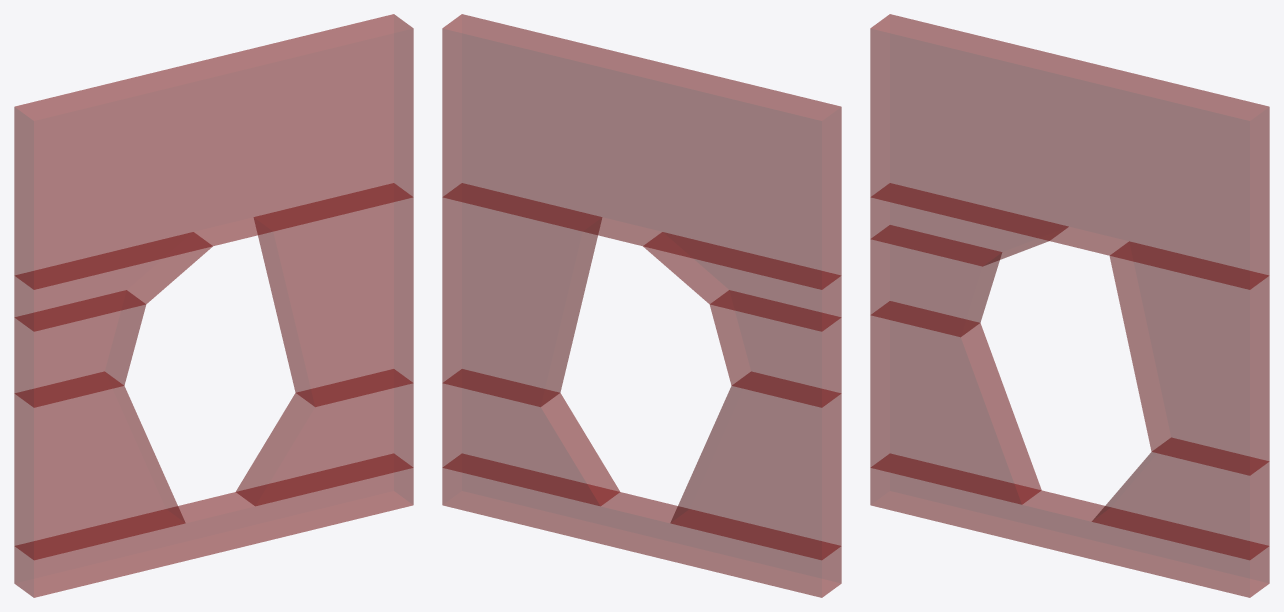
File: SM_Bld_Wall_Hole_03_Collision.fbx
The picture shows the model from 3 angles, left to right: view 1: azimuth 30°, elevation 25°; view 2: azimuth 150°, elevation 25°; view 3: azimuth 330°, elevation 25°; orthographic projection.
Visible parts, largest first — view 1: SM_Bld_Wall_Hole_03_Collision; view 2: SM_Bld_Wall_Hole_03_Collision; view 3: SM_Bld_Wall_Hole_03_Collision.
Boxes of the visible parts, x1,y1,x2,y2 form: SM_Bld_Wall_Hole_03_Collision: [14, 14, 413, 597]; SM_Bld_Wall_Hole_03_Collision: [442, 14, 841, 597]; SM_Bld_Wall_Hole_03_Collision: [870, 14, 1269, 597].
Size of the model in its own units: 250 by 300 by 22.5.
